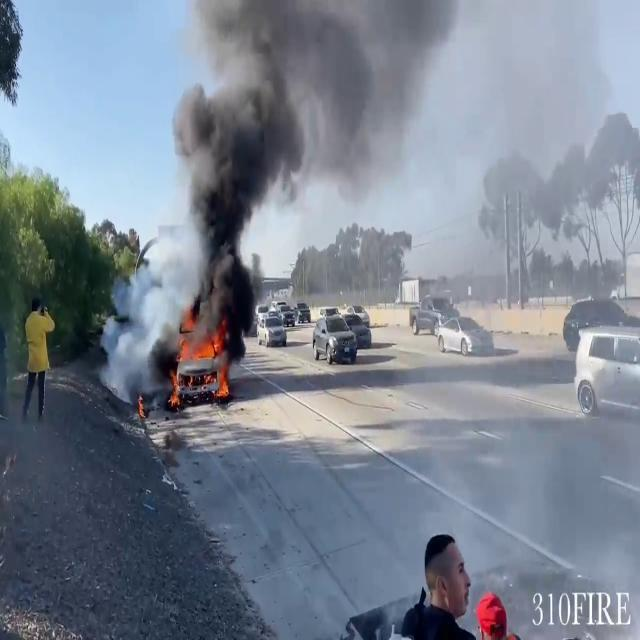Fire: (174, 308, 226, 370)
Smoke: (169, 0, 448, 349), (100, 226, 204, 409)
